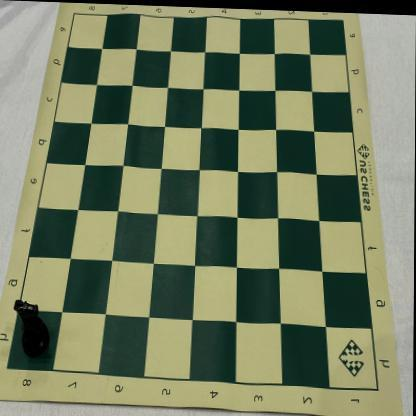black-knight: (14, 299, 50, 358)
